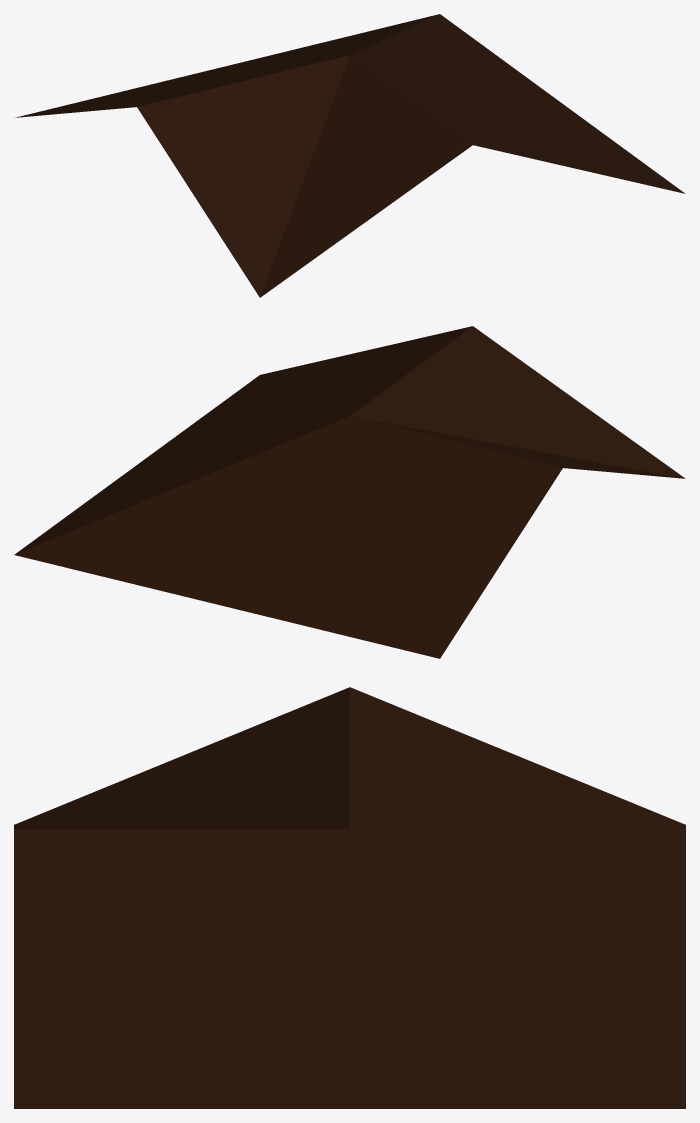
The model's file is Roof_01I.fbx.
3 renders of one model, top to bottom at view 1: azimuth 30°, elevation 25°; view 2: azimuth 150°, elevation 25°; view 3: azimuth 270°, elevation 25°, orthographic. The views are drawn at different scales.
Parts seen in each view (by area): view 1: Roof_01H; view 2: Roof_01H; view 3: Roof_01H.
Boxes of the visible parts, <box> form: Roof_01H: <box>14,14,685,297</box>; Roof_01H: <box>14,326,685,658</box>; Roof_01H: <box>14,687,685,1108</box>.
Size of the model in its own units: 300 by 67.87 by 300.
